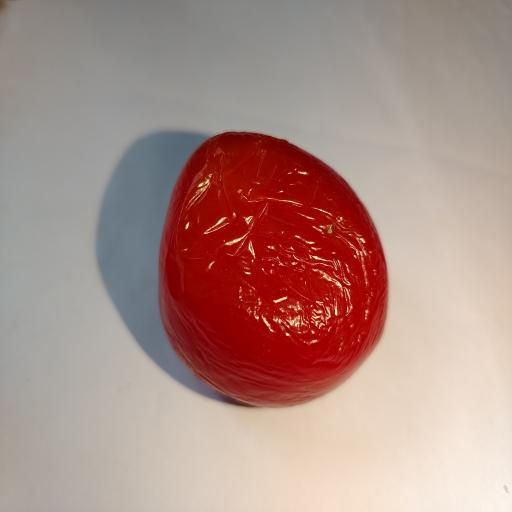spoiled: (159, 133, 387, 406)
